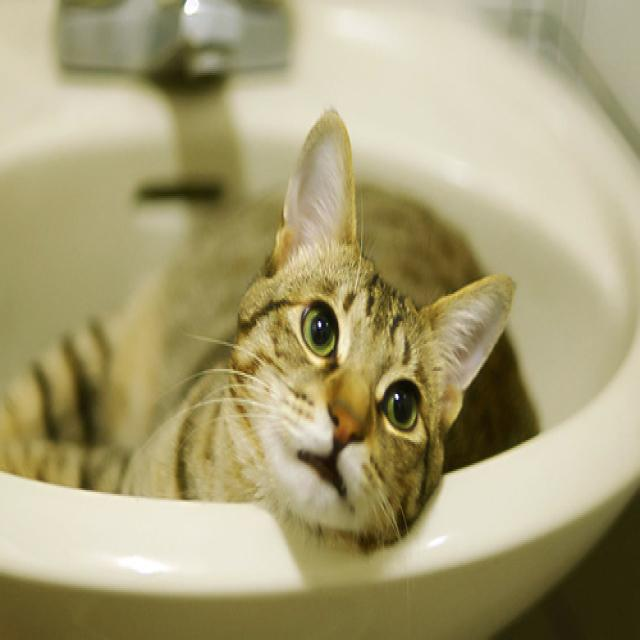cat: (1, 107, 544, 556)
